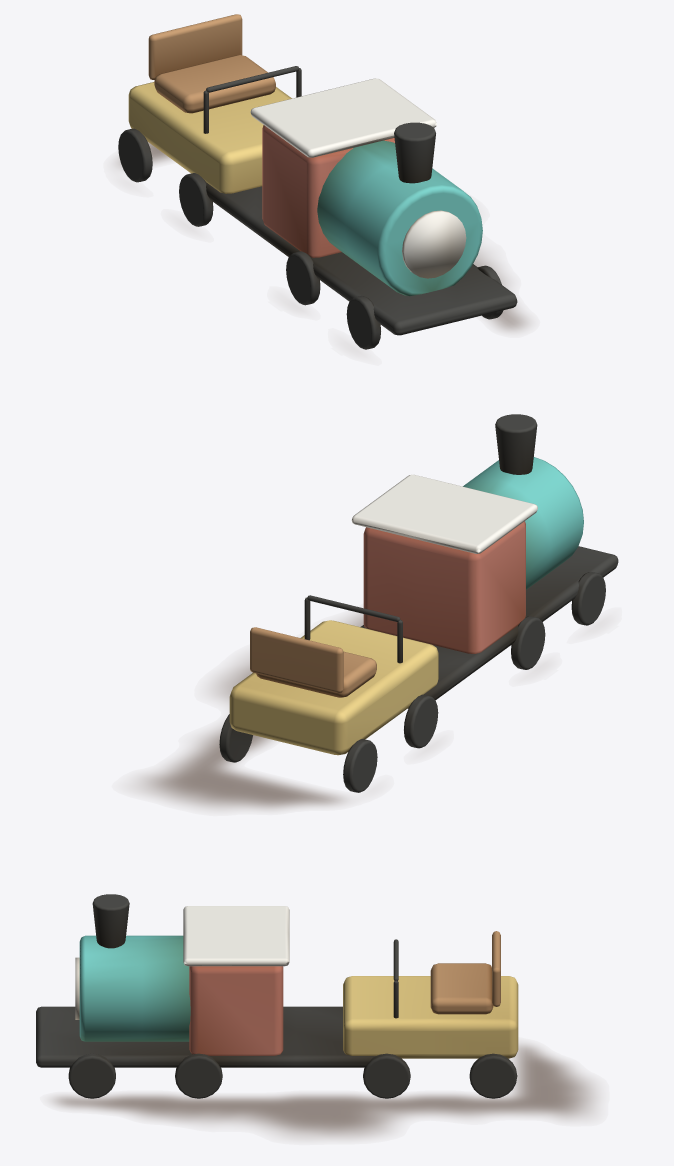
File: mini_train.glb
The picture shows the model from 3 angles, top to bottom: view 1: azimuth 30°, elevation 25°; view 2: azimuth 150°, elevation 25°; view 3: azimuth 270°, elevation 25°; orthographic projection. The views are drawn at different scales.
Visible parts, largest first — view 1: boiler, chassis, wagon, cab_roof, cab, seat, seatback, boiler_front, chimney, wheel-129, wheel-1-18, wheel-1-35 (+3 smaller); view 2: cab, wagon, cab_roof, baked_shadow, boiler, chassis, seatback, chimney, seat, wheel-129, wheel-112, wheel-1-35 (+2 smaller); view 3: baked_shadow, wagon, boiler, chassis, cab, cab_roof, seat, wheel129, chimney, wheel112, wheel1-18, wheel1-35 (+1 smaller).
Boxes of the visible parts, x1,y1,x2,y2 form: boiler: (317,140,482,296); chassis: (206,182,517,335); wagon: (128,82,291,193); cab_roof: (250,78,436,157); cab: (262,125,394,257); seat: (154,55,275,113); seatback: (148,14,242,79); boiler_front: (402,210,466,278); chimney: (394,122,435,183); wheel-129: (118,128,152,182); wheel-1-18: (286,251,320,305); wheel-1-35: (346,295,380,349); cab: (363,521,525,653); wagon: (229,620,438,755); cab_roof: (351,474,537,553); baked_shadow: (140,614,363,809); boiler: (463,457,583,589); chassis: (360,546,618,708); seatback: (250,627,343,692); chimney: (495,414,537,474); seat: (256,651,376,697); wheel-129: (343,739,377,792); wheel-112: (404,694,438,748); wheel-1-35: (571,571,605,625); baked_shadow: (54,1045,594,1137); wagon: (343,976,518,1058); boiler: (79,935,190,1041); chassis: (36,1006,375,1067); cab: (189,966,283,1055); cab_roof: (183,906,289,966); seat: (430,963,493,1014); wheel129: (469,1053,517,1098); chimney: (92,894,129,948); wheel112: (363,1053,410,1098); wheel1-18: (175,1053,222,1098); wheel1-35: (68,1053,115,1098).
Bounding box in the file's own units: 4.5 × 3 × 10.31.
7 materials, 1 textured.
